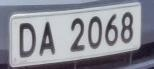0: (86, 11, 104, 54)
2: (68, 12, 88, 58)
6: (104, 9, 120, 51)
8: (119, 9, 135, 49)
A: (38, 16, 60, 62)
D: (18, 18, 39, 61)
